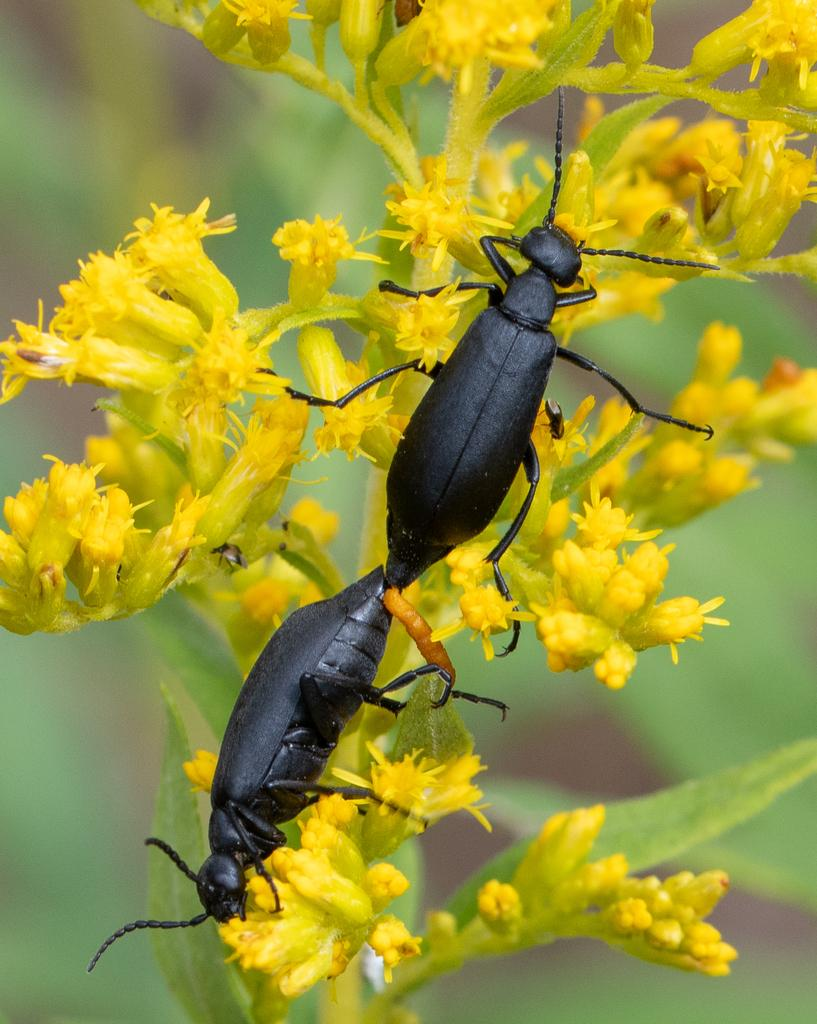blister_beetle: (228, 22, 771, 662), (33, 509, 522, 1024)
